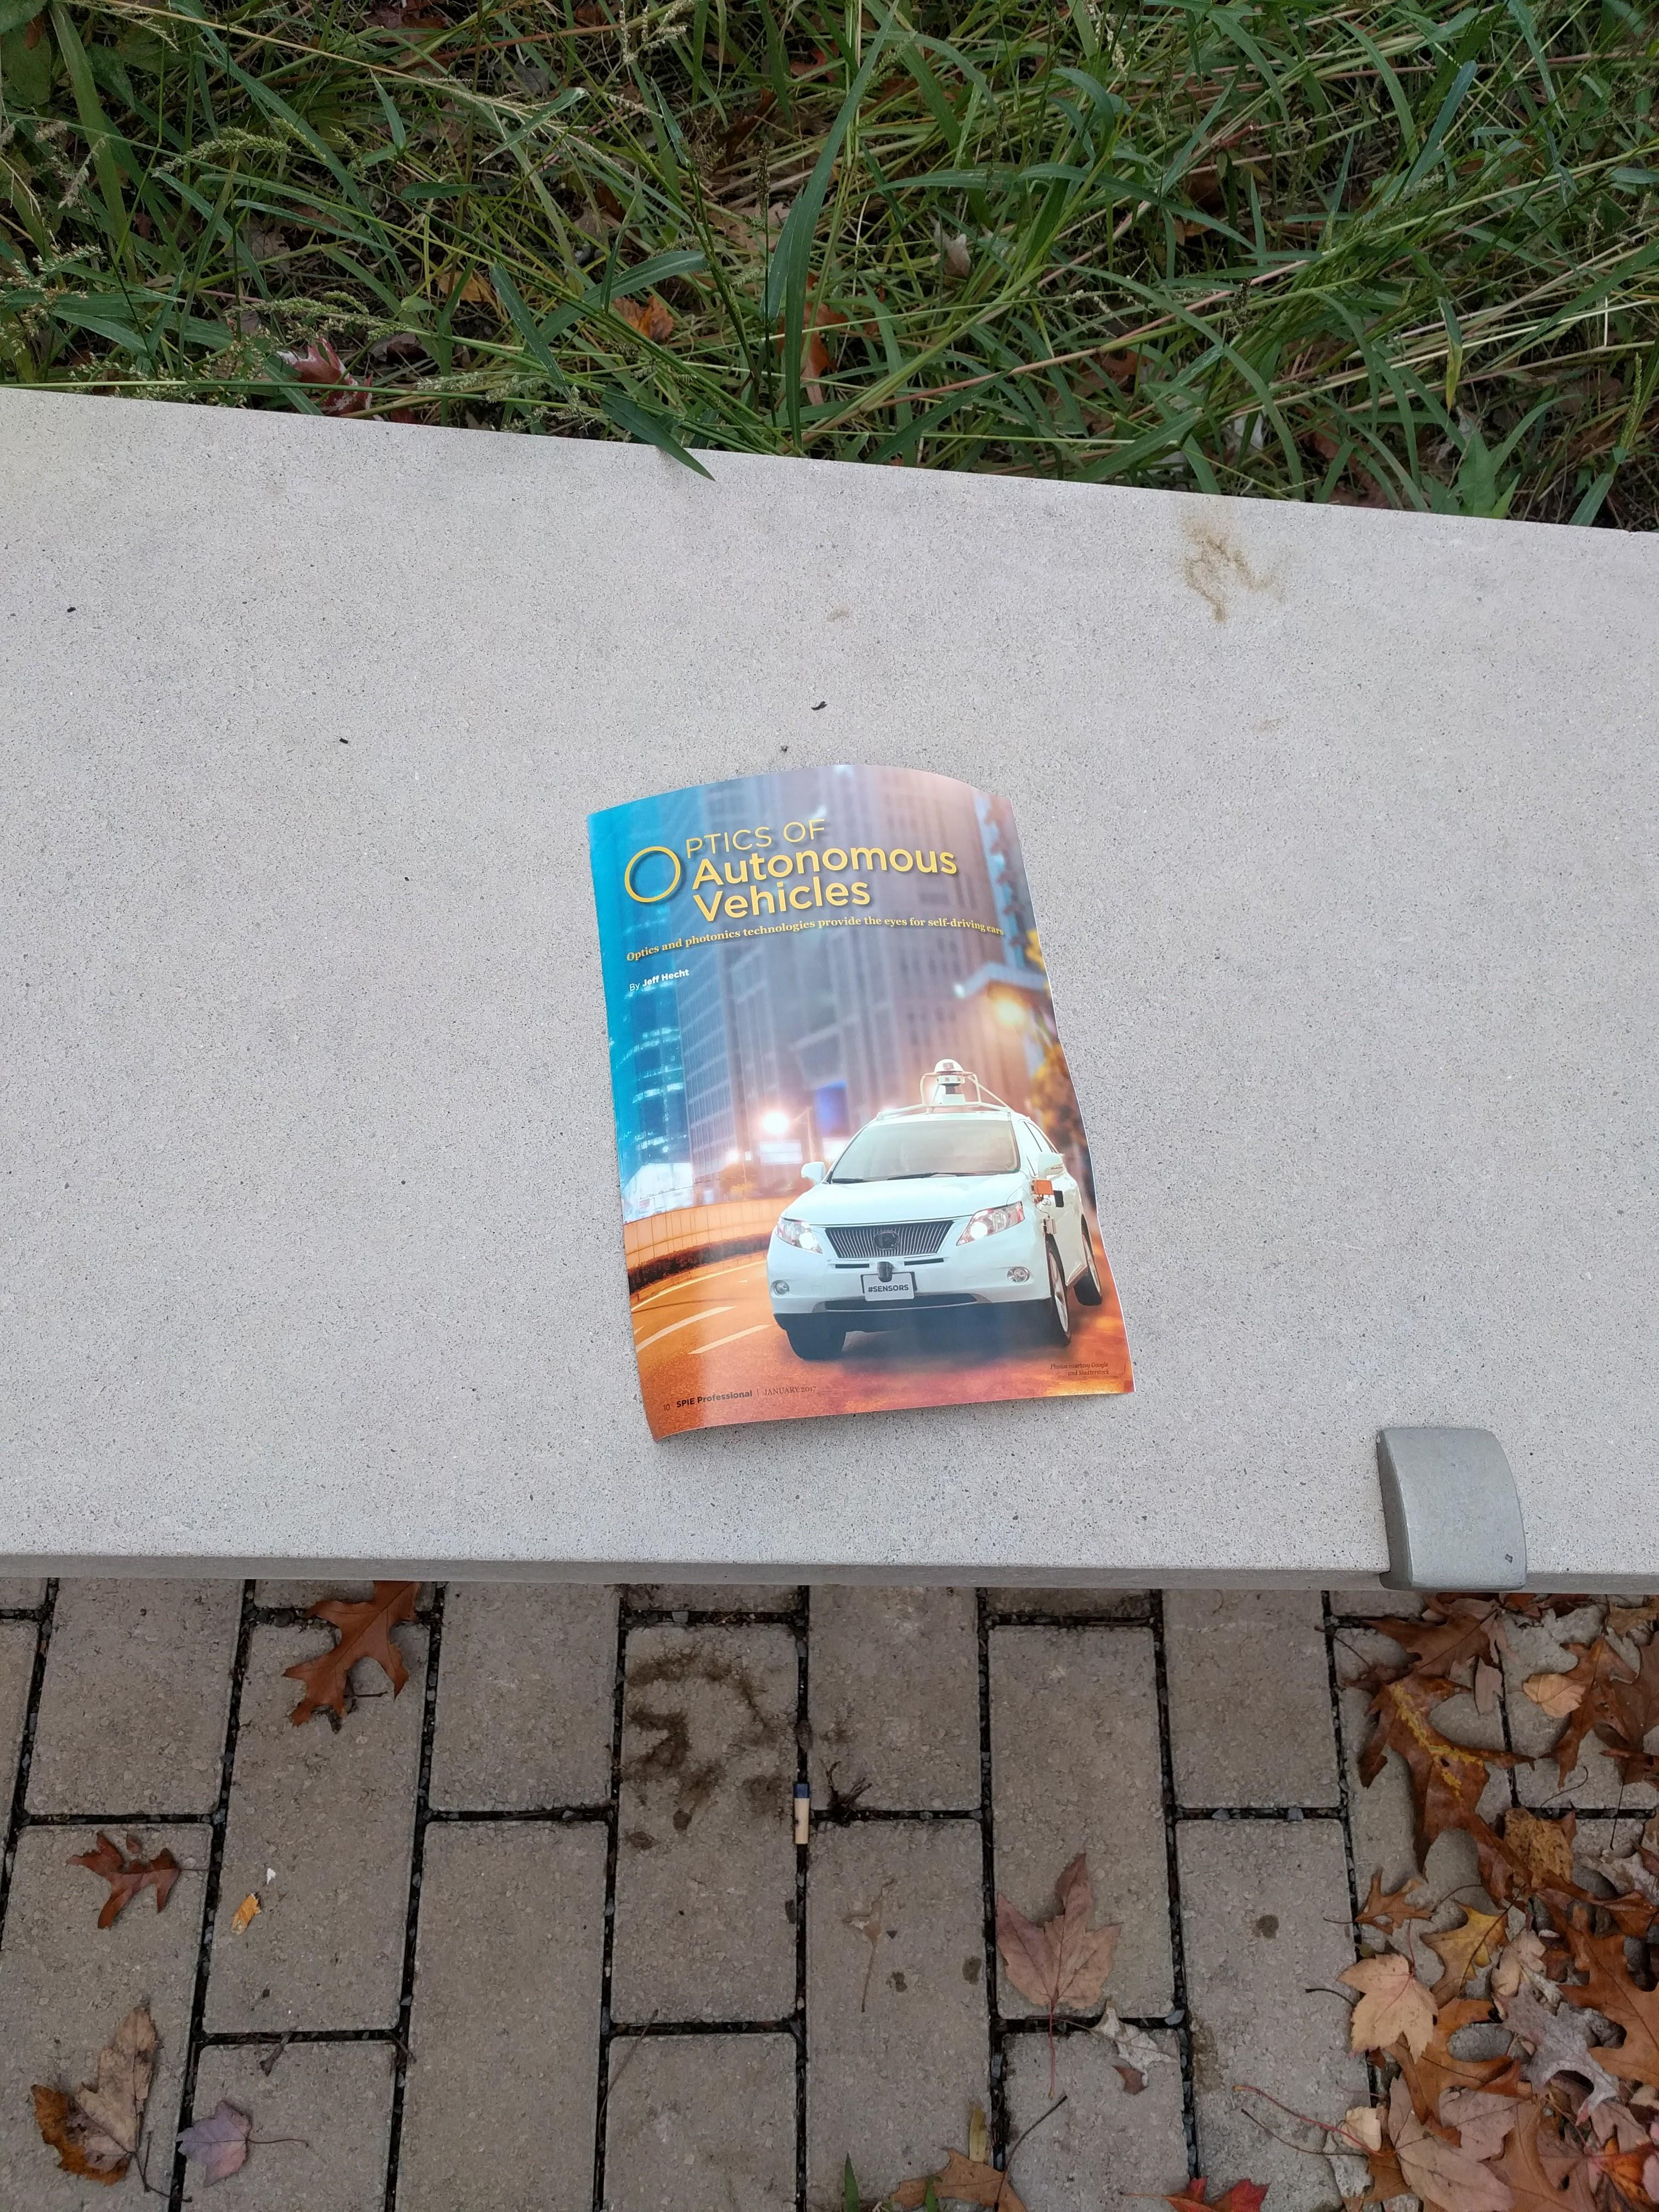paper: (392, 629, 1410, 1498)
